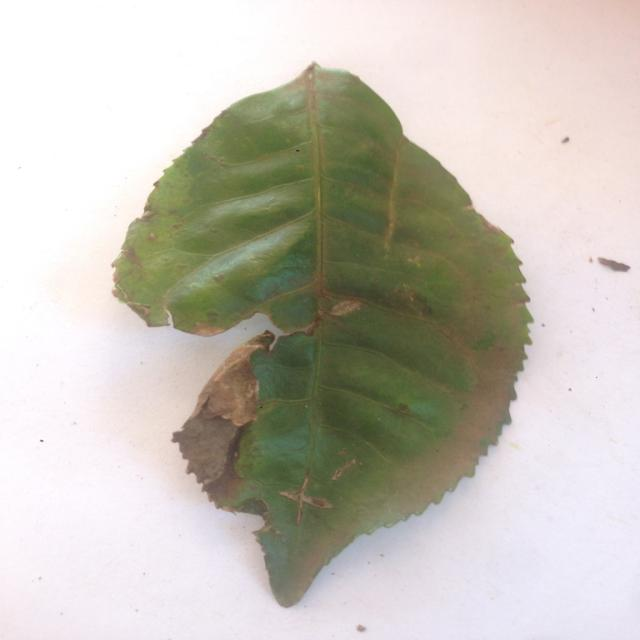Brown Blight: (132, 57, 517, 609)
